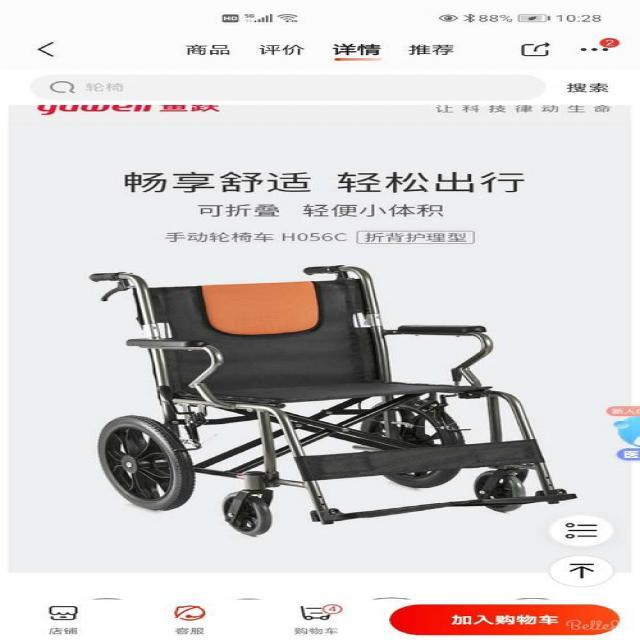wheelchair: (74, 271, 581, 537)
